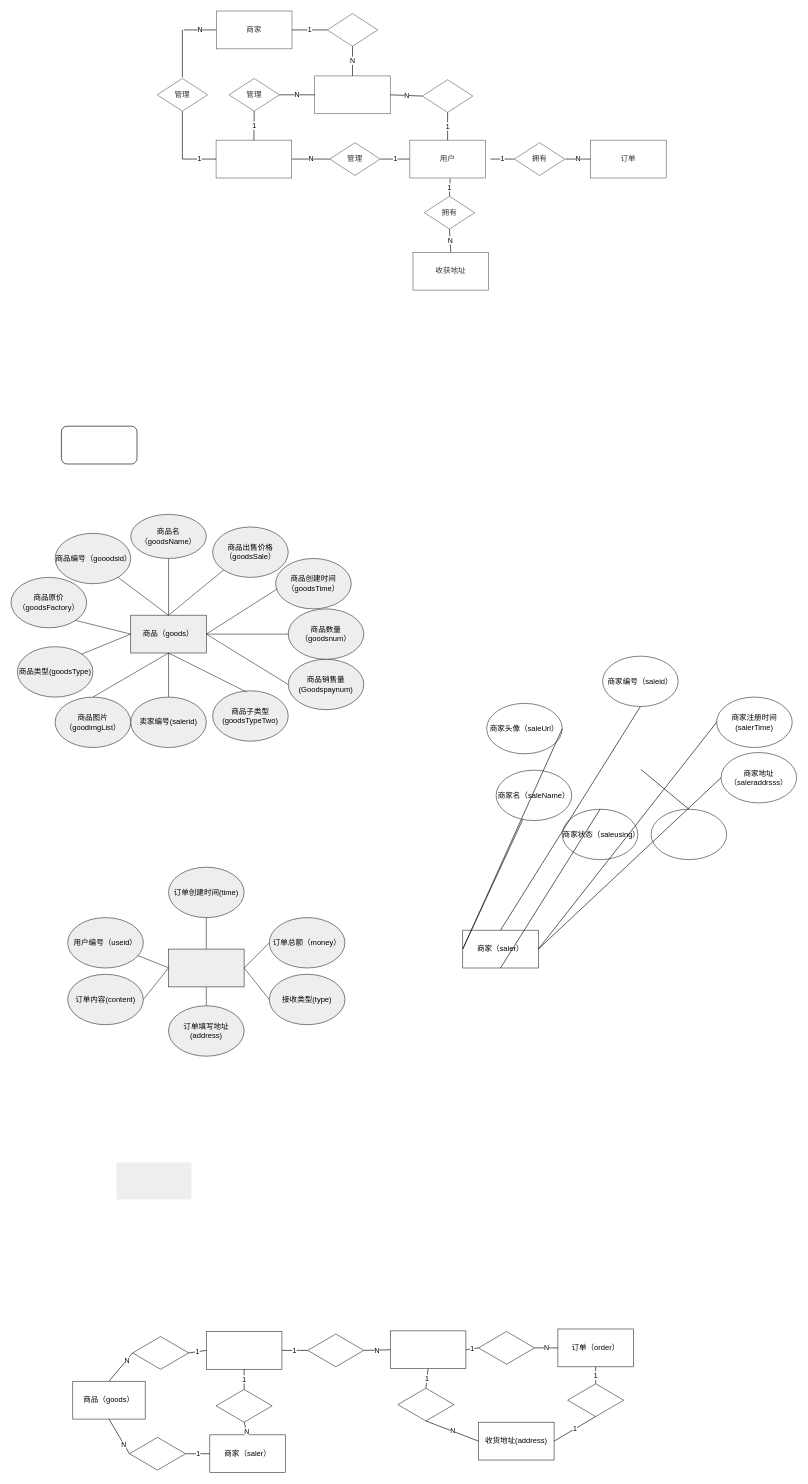
The diagram is 808 pixels wide and 1484 high, and some of its shapes have lost their labels. Here are the shapes that lost their labels. From the top down, the box of each, then its label:
(327, 13, 378, 46): 发布
(314, 75, 390, 114): 商品
(422, 79, 473, 112): 购买
(215, 140, 292, 178): 管理员
(650, 809, 727, 860): 商家电话号码（salerphone）
(168, 948, 244, 987): 订单(0rders)
(206, 1331, 282, 1369): 管理员(admin)
(390, 1330, 466, 1369): 用户（user）
